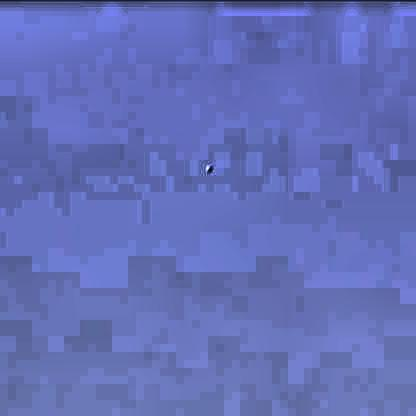golfball: (202, 162, 212, 169)
